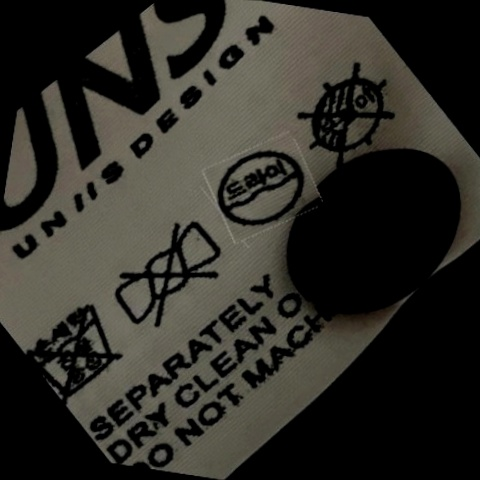DN_dry: (294, 62, 399, 168)
DN_wring: (109, 218, 227, 336)
dry_clean: (215, 140, 309, 238)
hand_wash: (29, 293, 128, 401)
